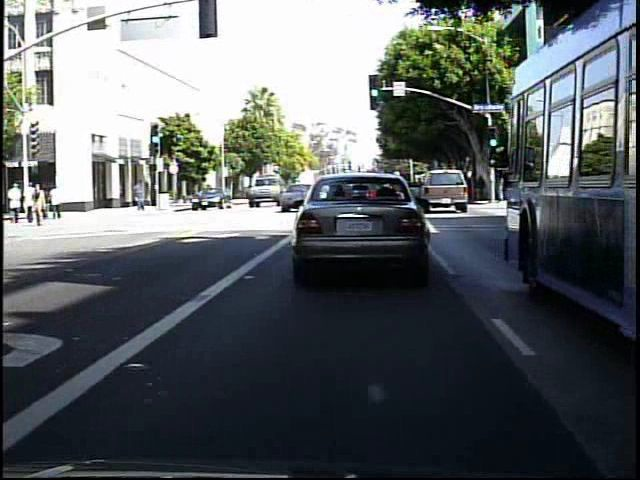person: (9, 181, 27, 226), (23, 180, 40, 224), (32, 183, 48, 228), (131, 176, 149, 214), (50, 181, 66, 220), (40, 184, 54, 220), (474, 169, 489, 202)
